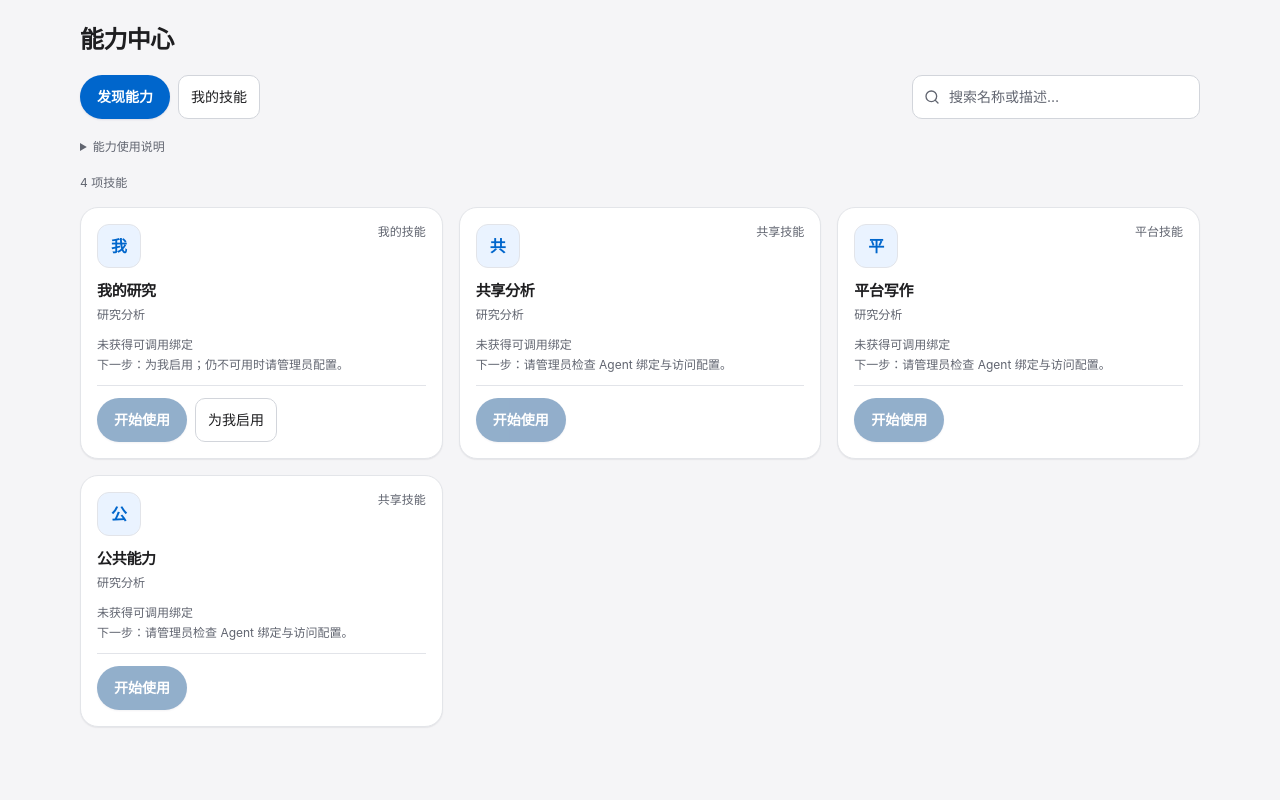
能力中心 › PUT 响应未确认目标绑定时不显示成功
Expected: the element "我的研究" is shown, [80,207,443,459]
What coordinates should you click on to do the following:
click the button "为我启用"
I would click on:
 (236, 420)
Its box is [195,398,277,442].
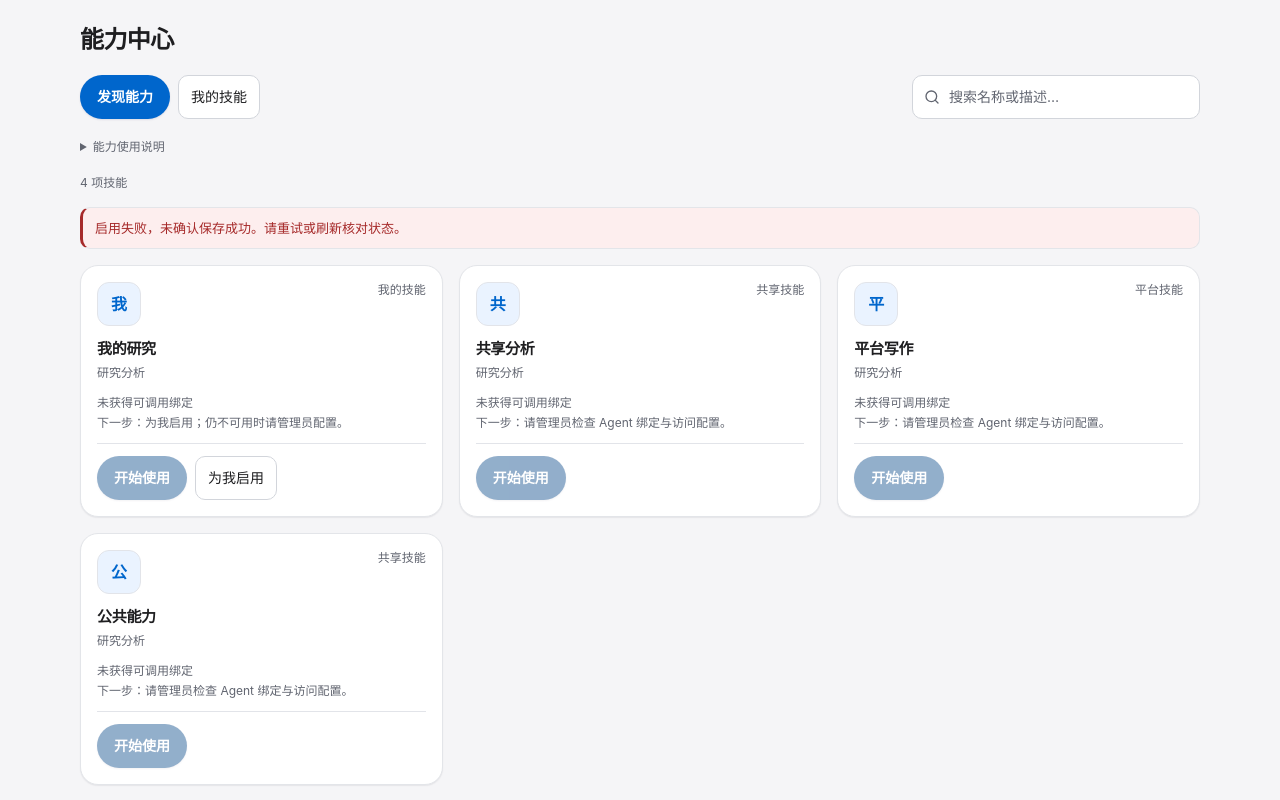
Now the text "启用失败，未确认保存成功。请重试或刷新核对状态。" is shown, box [80,207,1200,249]
